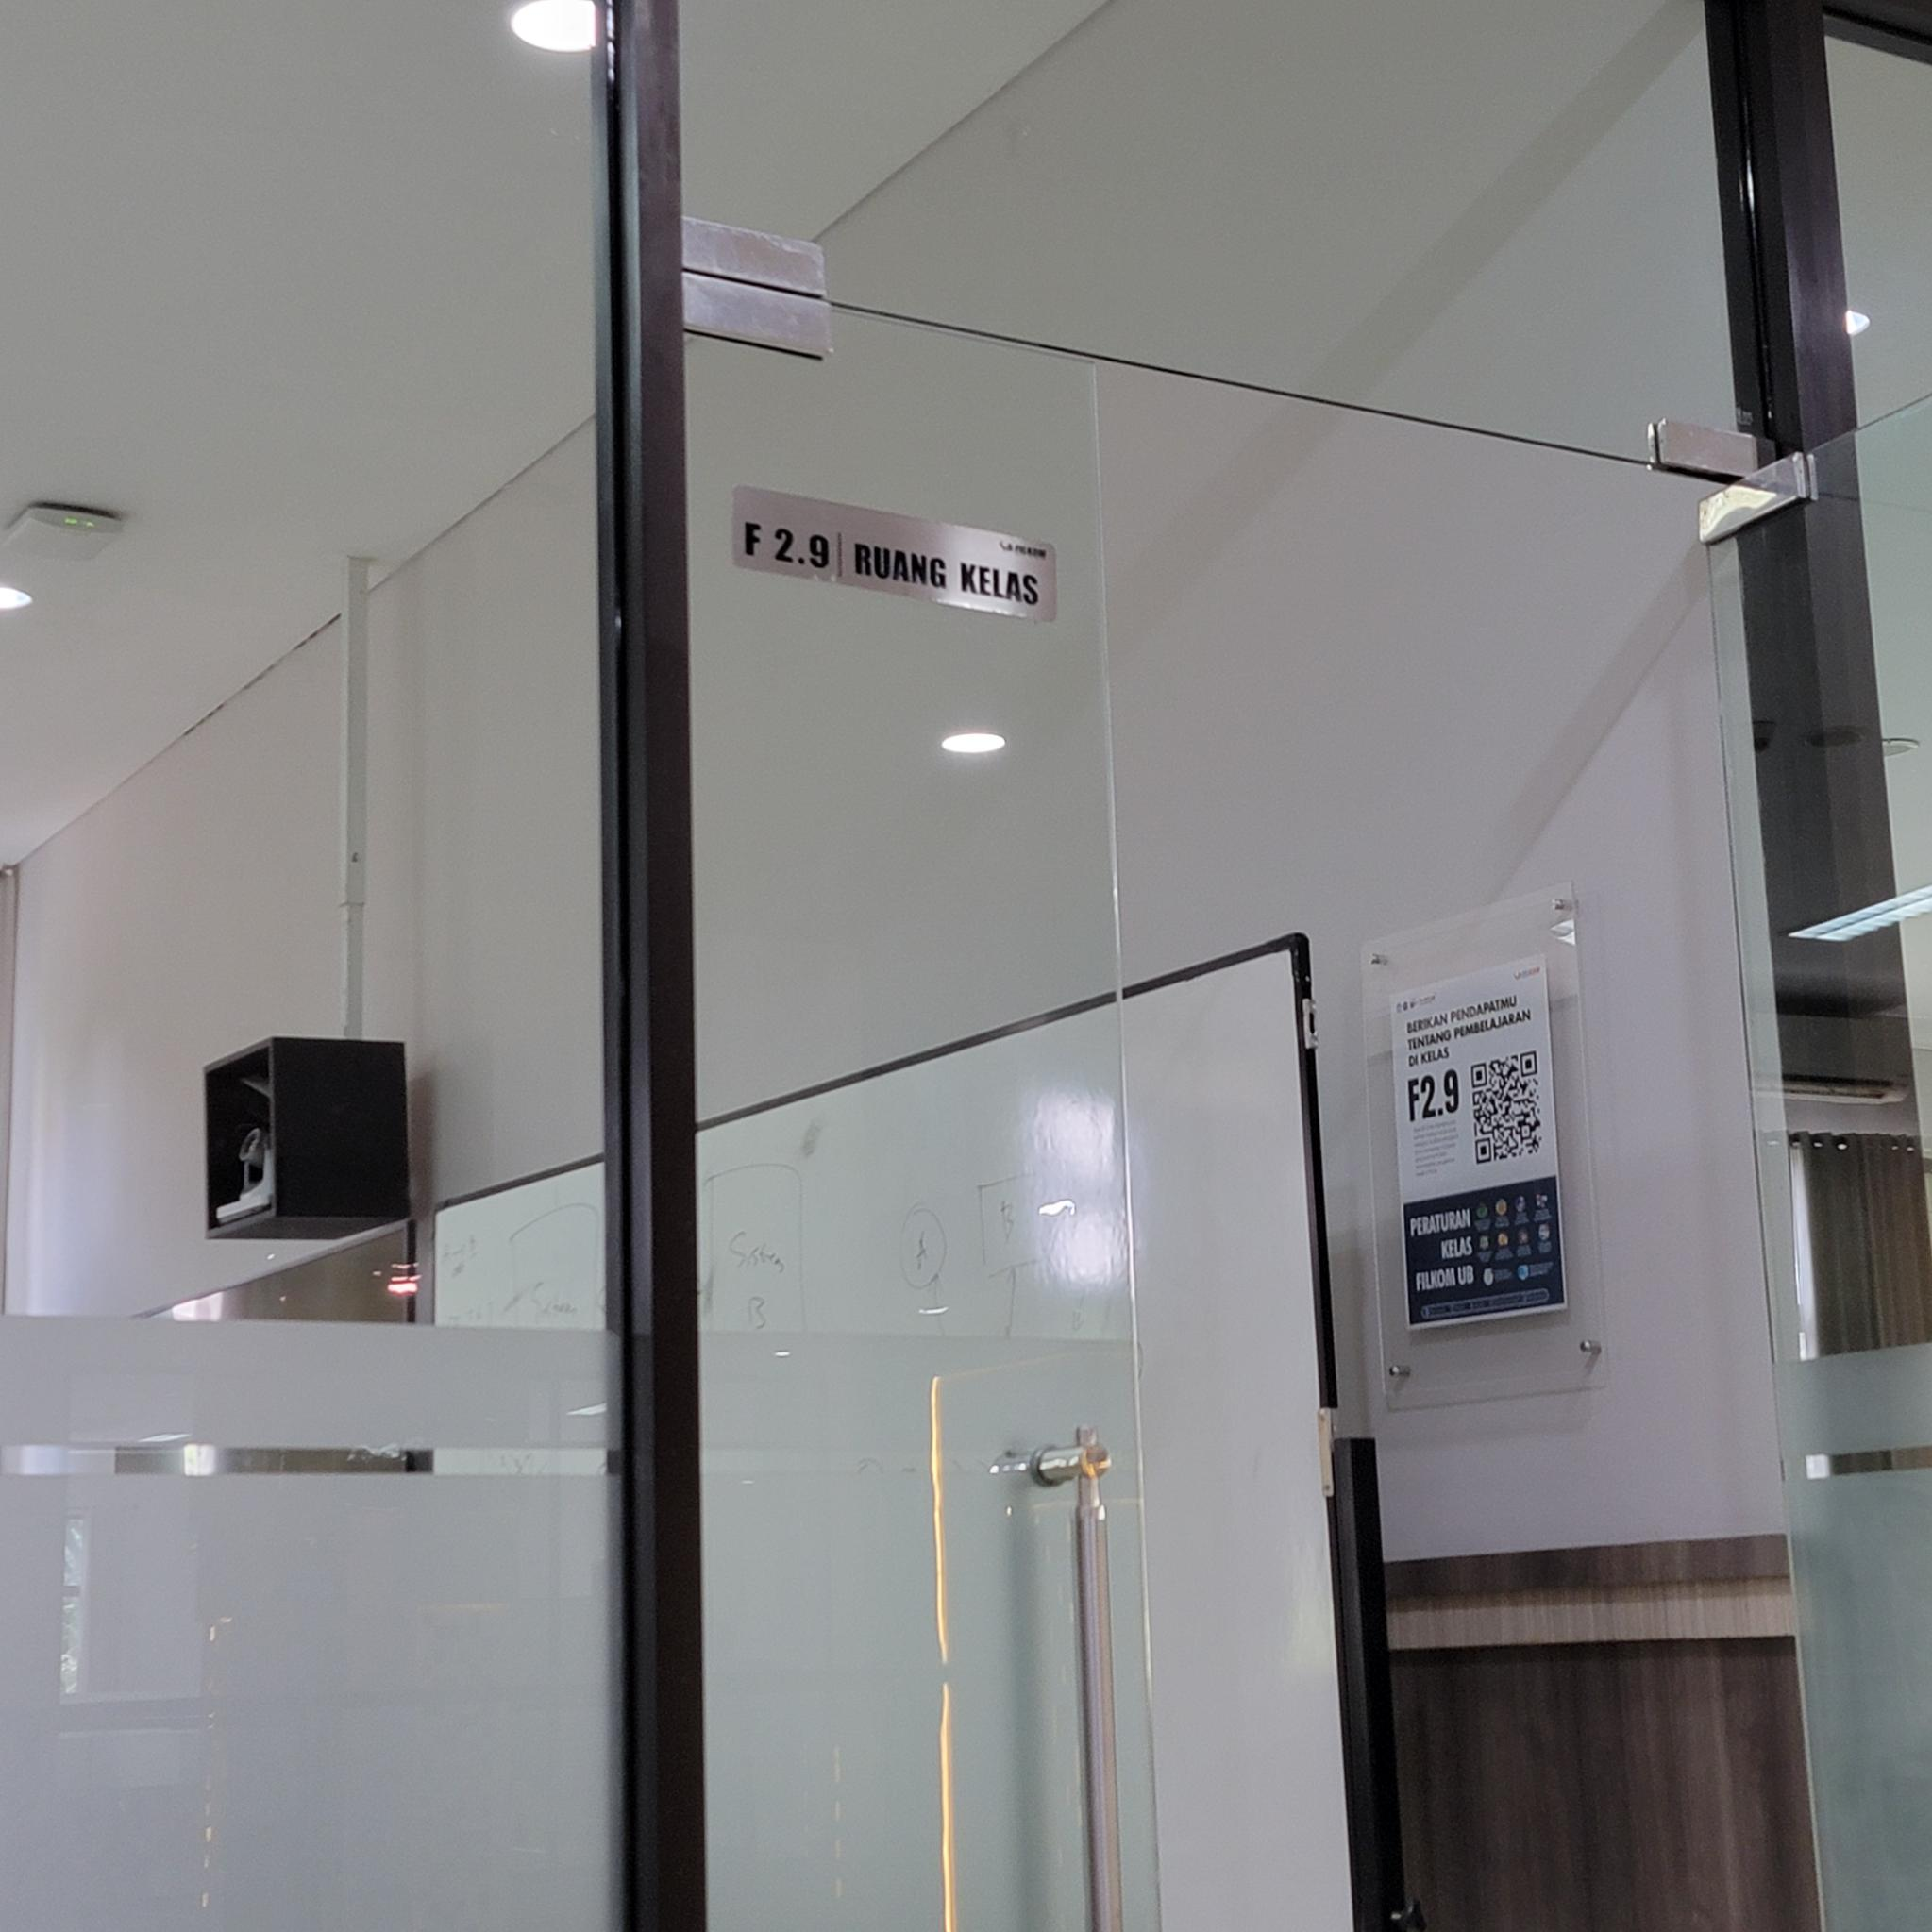plate: (729, 481, 1058, 626)
